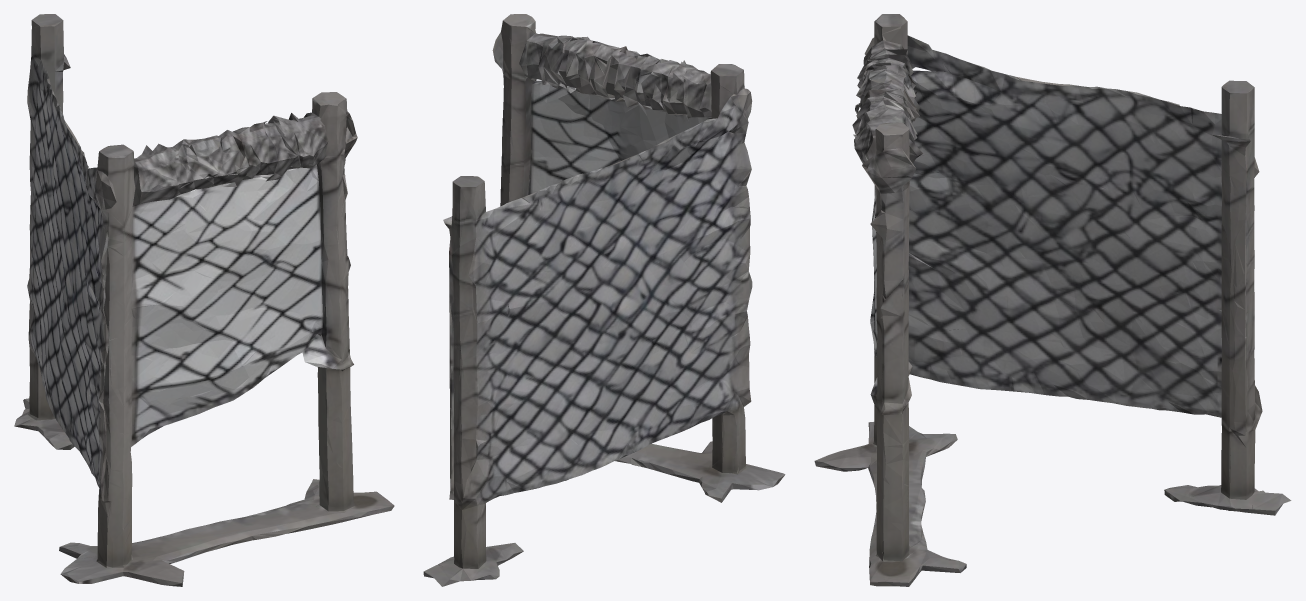
Rendered from bar_barbed_wire.glb.
3 renders of one model, left to right at view 1: azimuth 30°, elevation 25°; view 2: azimuth 150°, elevation 25°; view 3: azimuth 270°, elevation 25°, orthographic. The views are drawn at different scales.
Parts seen in each view (by area): view 1: bar_barbed_wire_tex; view 2: bar_barbed_wire_tex; view 3: bar_barbed_wire_tex.
Part boxes in pixels (left/top/right/bottom): bar_barbed_wire_tex: left=14, top=14, right=394, bottom=586; bar_barbed_wire_tex: left=423, top=14, right=785, bottom=586; bar_barbed_wire_tex: left=814, top=14, right=1291, bottom=586.
Bounding box in the file's own units: 2.73 × 3.39 × 3.4.
Materials: 1 (1 with a texture image).
